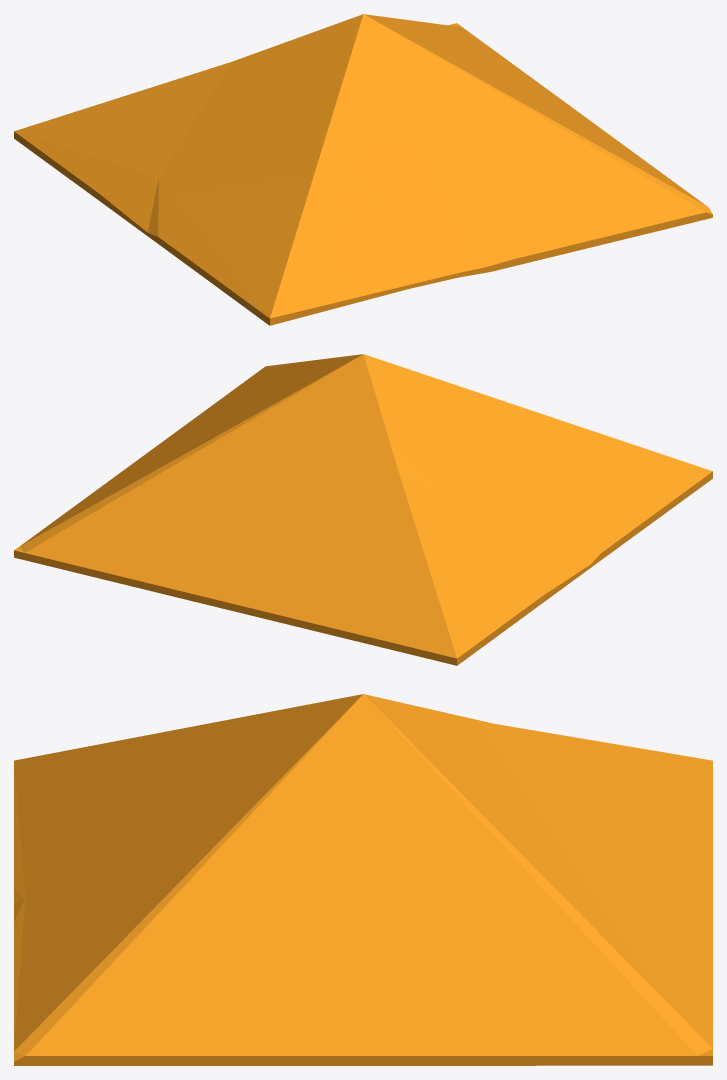
Rendered from SM_Buildings_RoofAngledPoint_5x5_01P.fbx.
3 renders of one model, top to bottom at view 1: azimuth 30°, elevation 25°; view 2: azimuth 150°, elevation 25°; view 3: azimuth 270°, elevation 25°, orthographic. The views are drawn at different scales.
Visible parts, largest first — view 1: SM_Buildings_RoofAngledPoint_5x5_01P; view 2: SM_Buildings_RoofAngledPoint_5x5_01P; view 3: SM_Buildings_RoofAngledPoint_5x5_01P.
Boxes of the visible parts, x1,y1,x2,y2 form: SM_Buildings_RoofAngledPoint_5x5_01P: (14,14,712,325); SM_Buildings_RoofAngledPoint_5x5_01P: (14,354,712,665); SM_Buildings_RoofAngledPoint_5x5_01P: (14,694,712,1065).
Bounding box in the file's own units: 500 × 177 × 500.
